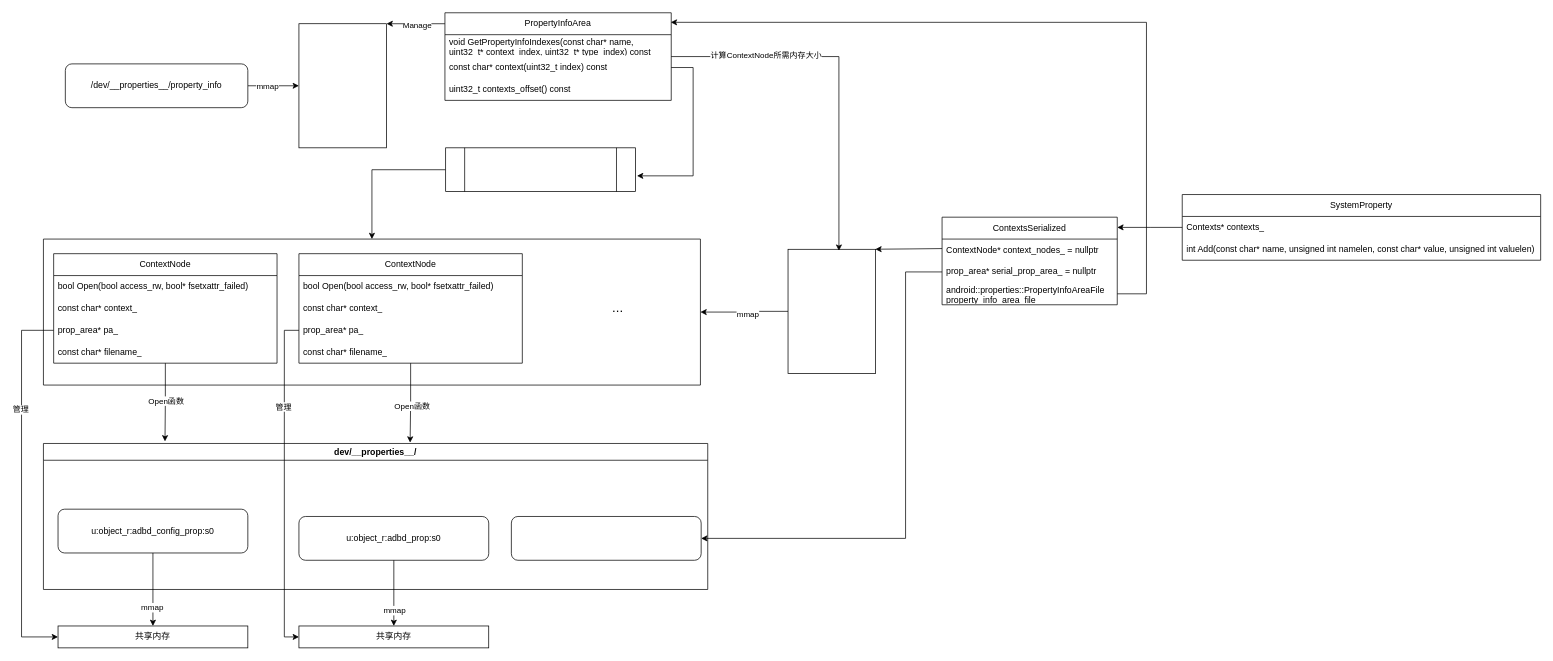
The diagram is 1553 pixels wide and 661 high, and some of its shapes have lost their labels. The centre of each missing label's shape, as x and y in pixels:
InitializeContextNodes: point (540, 169)
properties_serial u:object_r:properties_serial:s0: point (606, 538)
共享 内存: point (342, 85)
匿名共享 内存: point (831, 311)
